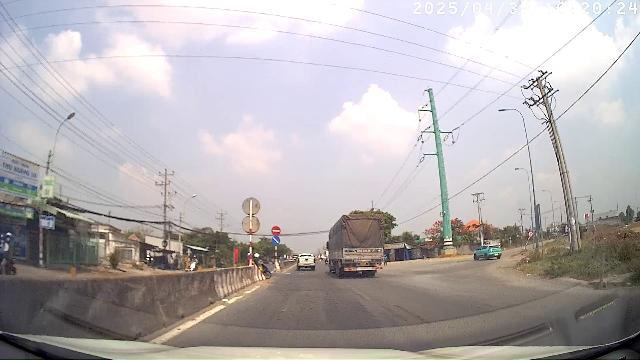102-cam-di-nguoc-chieu: (271, 226, 281, 235)
302a-huong-phai-di-vong-chuong-ngai-vat-1: (271, 236, 280, 245)
